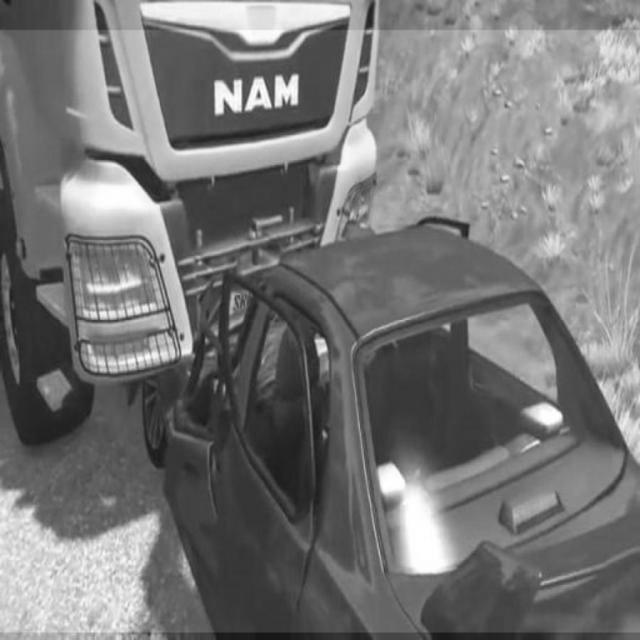accident: (0, 30, 640, 632)
